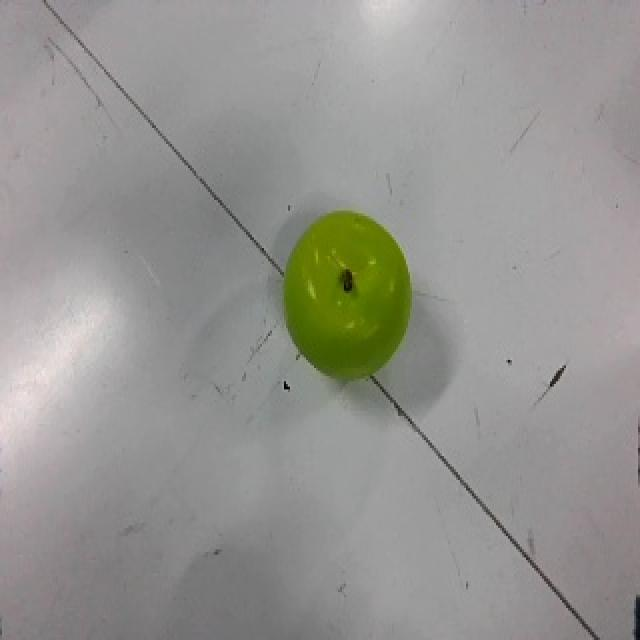apple: (283, 209, 413, 385)
